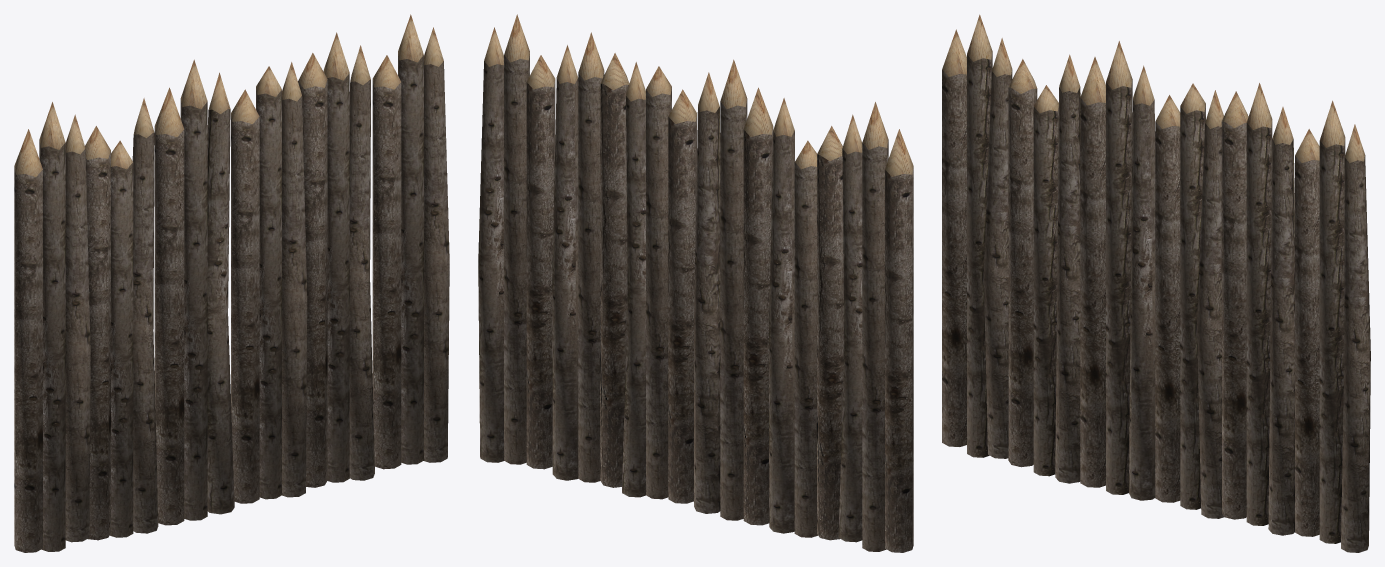
File: Palisade.fbx
The picture shows the model from 3 angles, left to right: view 1: azimuth 30°, elevation 25°; view 2: azimuth 150°, elevation 25°; view 3: azimuth 330°, elevation 25°; orthographic projection.
Parts seen in each view (by area): view 1: Palisade; view 2: Palisade; view 3: Palisade.
Boxes of the visible parts, x1=… form: Palisade: x1=14, y1=14, x2=449, y2=552; Palisade: x1=478, y1=14, x2=913, y2=552; Palisade: x1=942, y1=14, x2=1370, y2=552.
Bounding box in the file's own units: 216 × 217 × 17.51.
